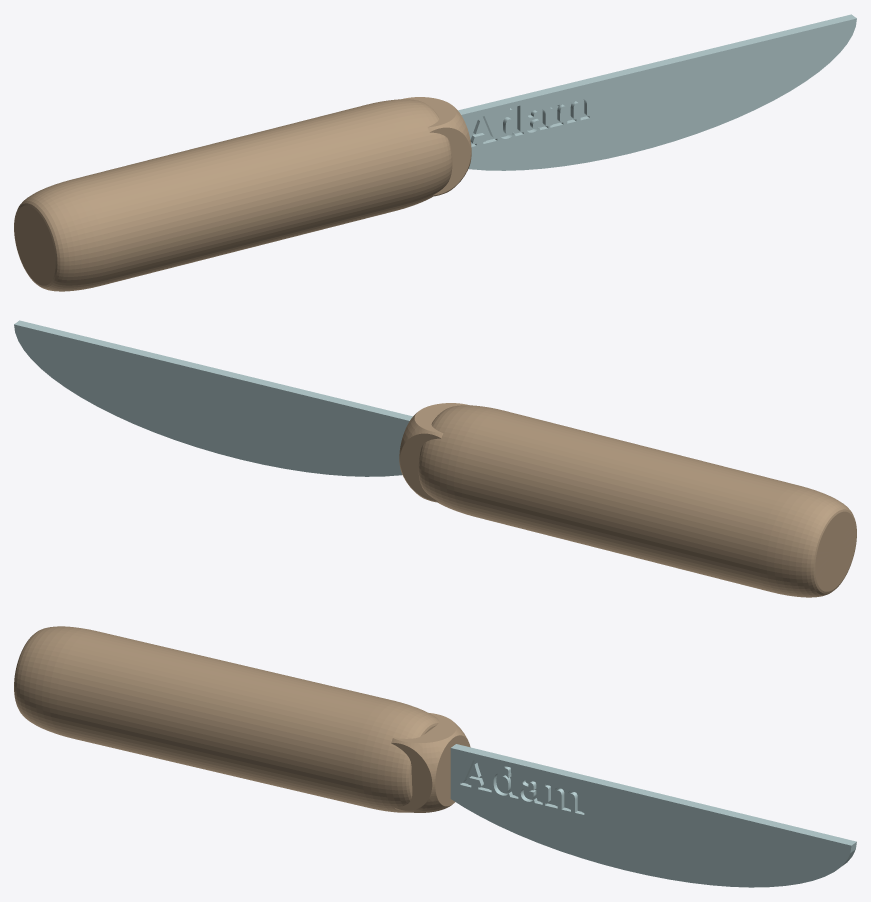
Rendered from Couteau-Adam.glb.
The picture shows the model from 3 angles, top to bottom: view 1: azimuth 30°, elevation 25°; view 2: azimuth 150°, elevation 25°; view 3: azimuth 330°, elevation 25°; orthographic projection.
Visible parts, largest first — view 1: Mesh_Mesh_head_geo.001_lambert2SG.001; view 2: Mesh_Mesh_head_geo.001_lambert2SG.001; view 3: Mesh_Mesh_head_geo.001_lambert2SG.001.
Boxes of the visible parts, x1,y1,x2,y2 form: Mesh_Mesh_head_geo.001_lambert2SG.001: [14, 14, 856, 291]; Mesh_Mesh_head_geo.001_lambert2SG.001: [14, 320, 856, 597]; Mesh_Mesh_head_geo.001_lambert2SG.001: [14, 626, 856, 887].
Bounding box in the file's own units: 172 × 20.79 × 20.
